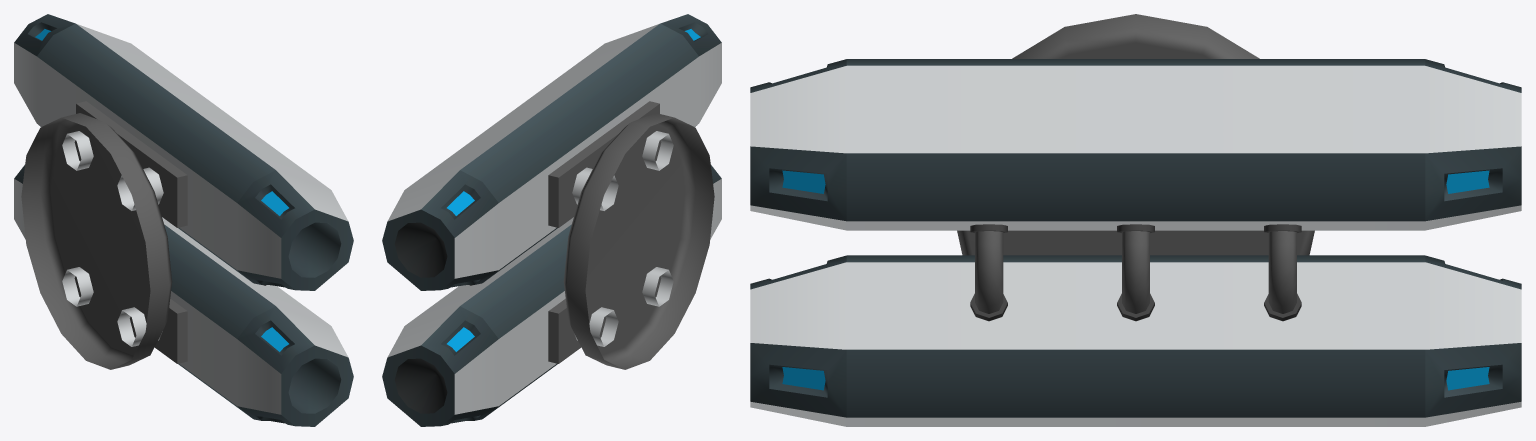
The model's file is Turret_007_Gun_02.fbx.
3 renders of one model, left to right at view 1: azimuth 30°, elevation 25°; view 2: azimuth 150°, elevation 25°; view 3: azimuth 270°, elevation 25°, orthographic. The views are drawn at different scales.
Parts seen in each view (by area): view 1: Turret_007_Gun_02; view 2: Turret_007_Gun_02; view 3: Turret_007_Gun_02.
Boxes of the visible parts, x1,y1,x2,y2 form: Turret_007_Gun_02: (14, 14, 353, 426); Turret_007_Gun_02: (382, 14, 721, 426); Turret_007_Gun_02: (750, 14, 1521, 426).
Bounding box in the file's own units: 39.29 × 120 × 62.
